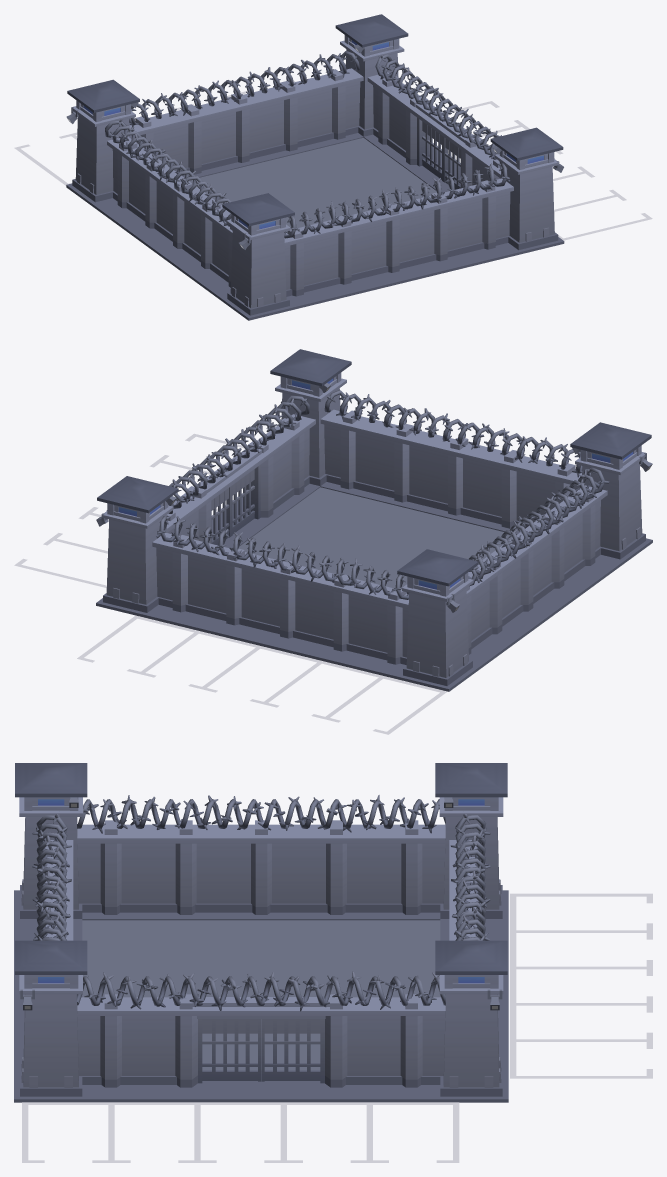
Rendered from prison.glb.
The picture shows the model from 3 angles, top to bottom: view 1: azimuth 30°, elevation 25°; view 2: azimuth 150°, elevation 25°; view 3: azimuth 270°, elevation 25°; orthographic projection. The views are drawn at different scales.
Parts seen in each view (by area): view 1: Prison.001; view 2: Prison.001; view 3: Prison.001.
Boxes of the visible parts, box(x1,y1,x2,y2) form: Prison.001: box(14, 14, 652, 320); Prison.001: box(14, 349, 652, 734); Prison.001: box(14, 763, 652, 1162).
Bounding box in the file's own units: 16.57 × 3.95 × 16.47.
Materials: 1 (1 with a texture image).
